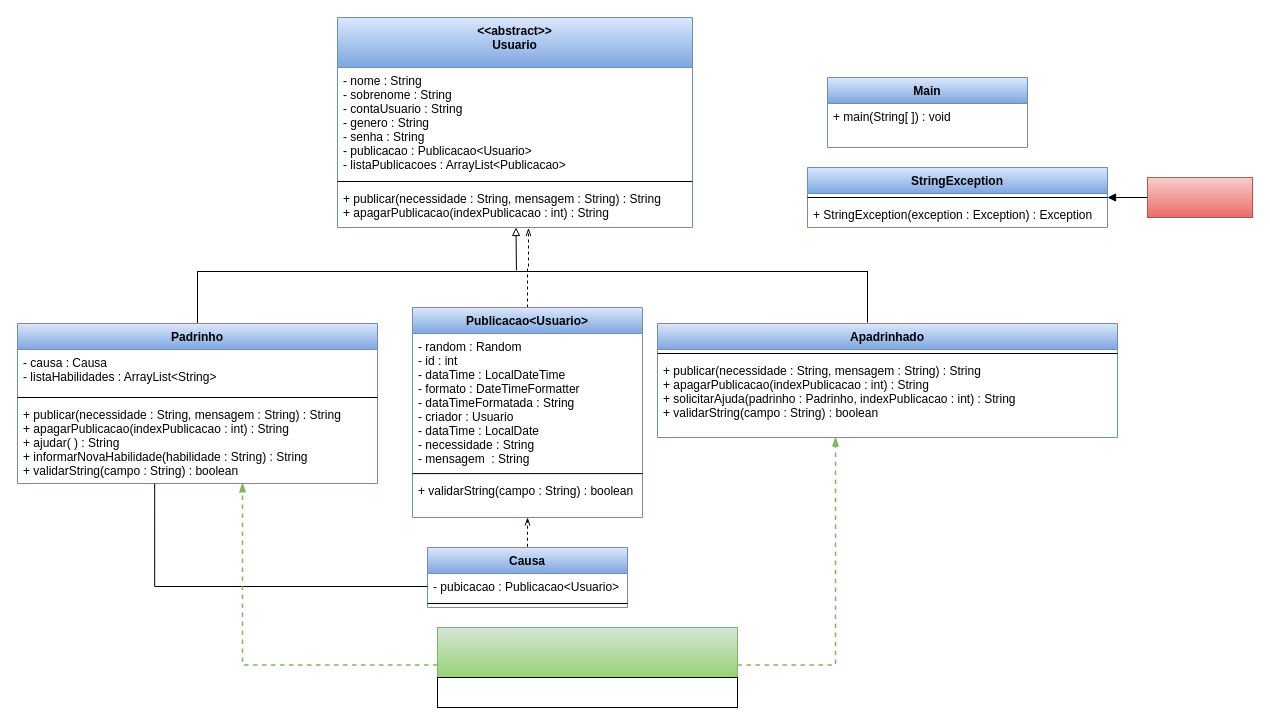
Some shapes in this 1270 by 725 pixel diagram are drawn without their labels. The shapes that lost their labels are listed below. From the top down, each one's centre as x and y in pixels, then its label:
the point at 1199,197: Exception
the point at 587,652: «interface» ValidadorString
the point at 587,692: + <<abstract>>validarStrings(campo : String) : boolean
